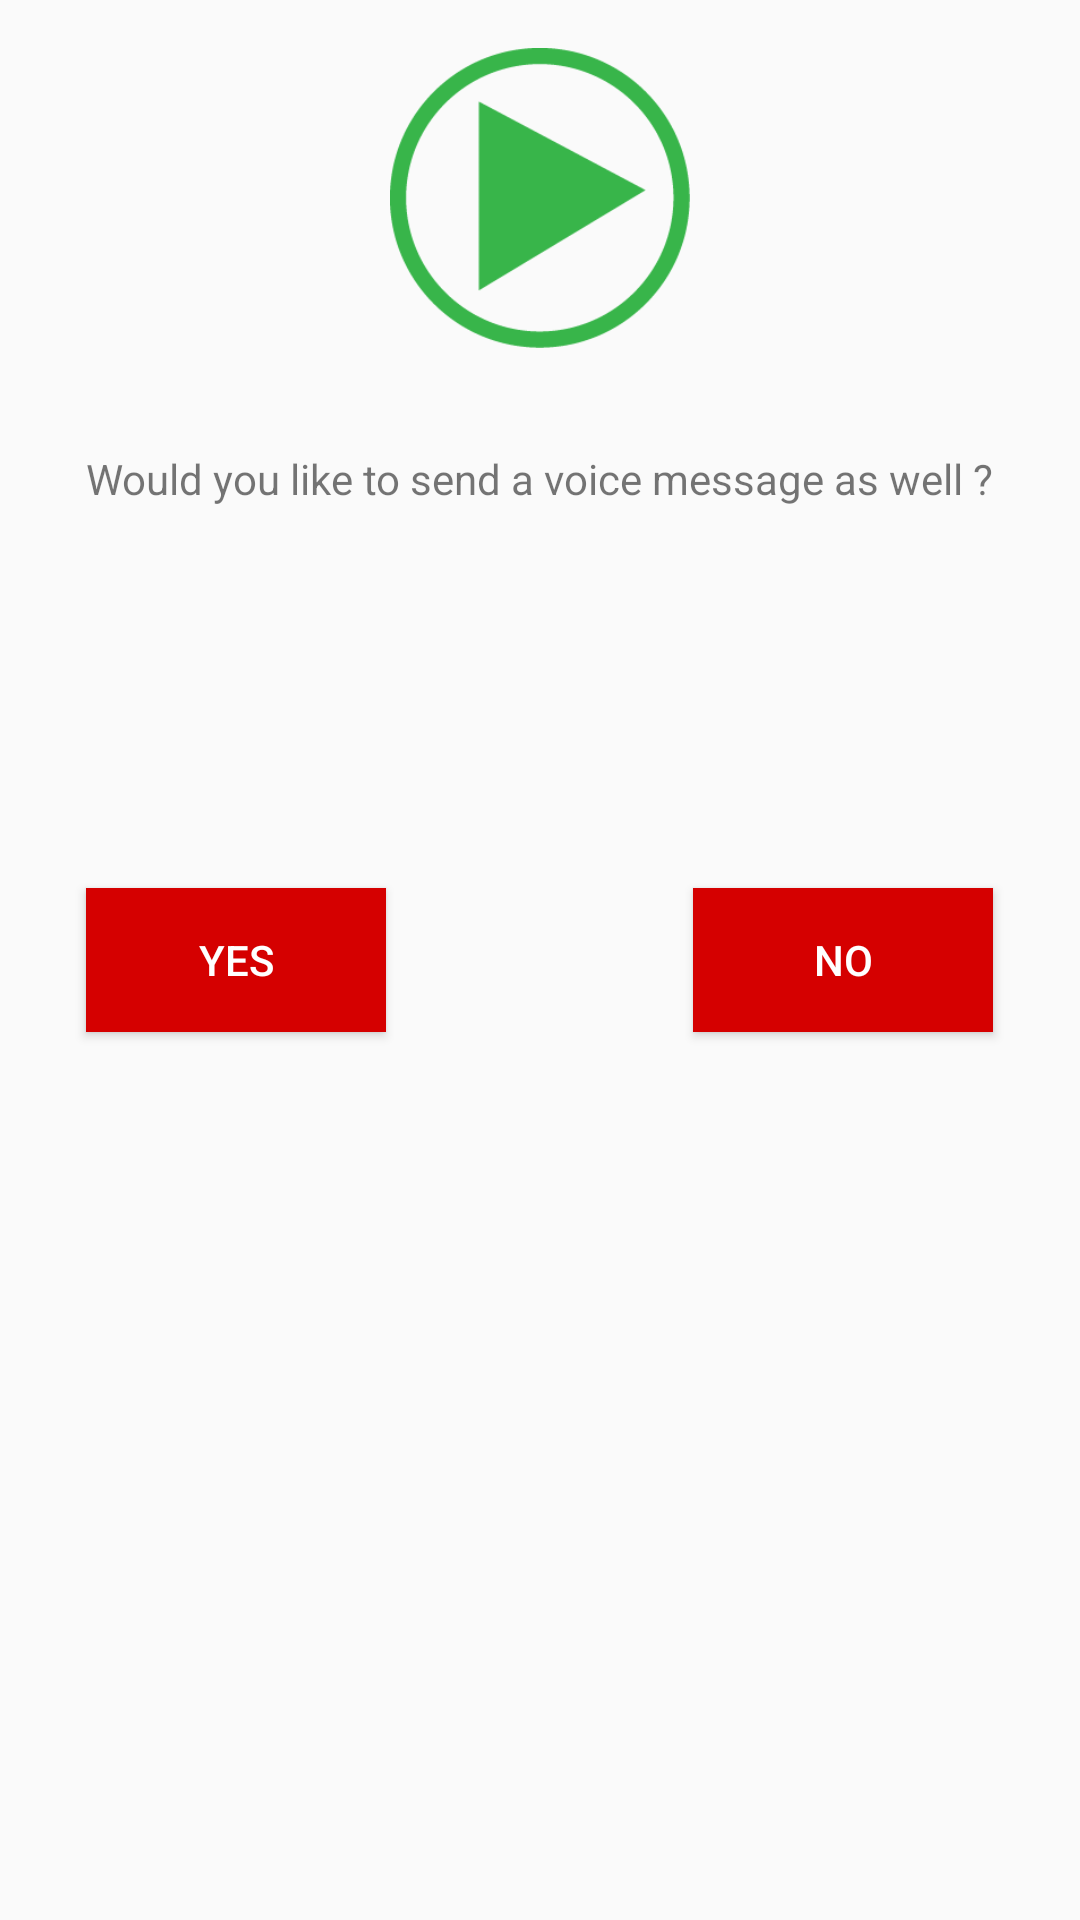

Screen size 1080 × 1920. Icon name, then its center in pixels as (x,y):
play sound: (540,198)
